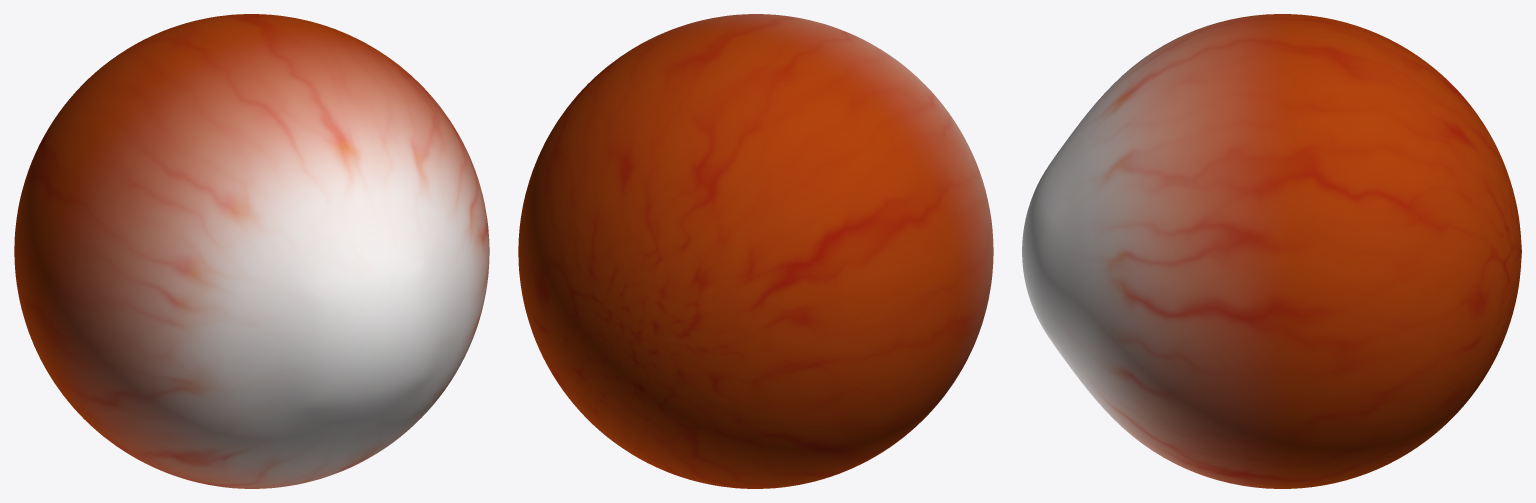
File: Highpoly.obj
3 views of the same model, side by side, from view 1: azimuth 30°, elevation 25°; view 2: azimuth 150°, elevation 25°; view 3: azimuth 270°, elevation 25° (orthographic).
Parts seen in each view (by area): view 1: Eye; view 2: Eye; view 3: Eye.
Boxes of the visible parts, x1=… form: Eye: x1=14, y1=14, x2=489, y2=488; Eye: x1=518, y1=14, x2=993, y2=488; Eye: x1=1022, y1=14, x2=1521, y2=488.
Bounding box in the file's own units: 1.95 × 1.95 × 2.06.
